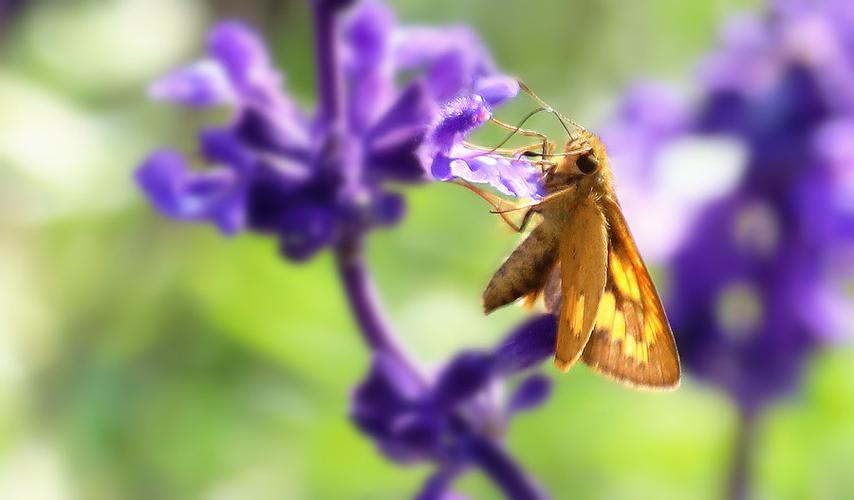Hesperiidae: (481, 70, 685, 393)
